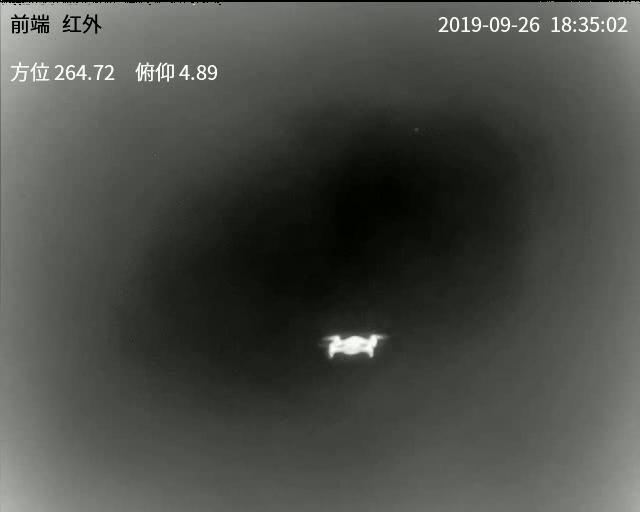DRONE: (324, 333, 384, 355)
